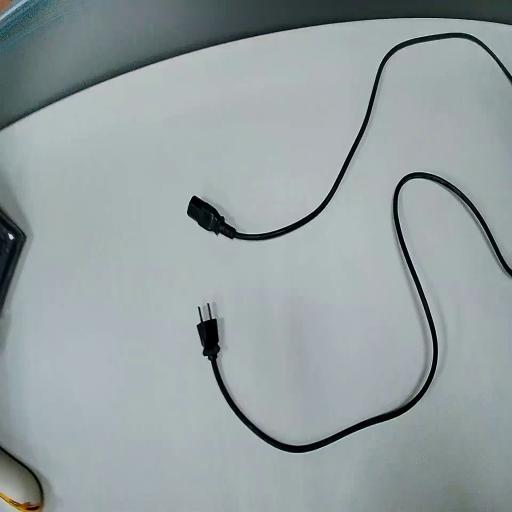wire: (198, 173, 511, 451), (188, 34, 511, 239)
